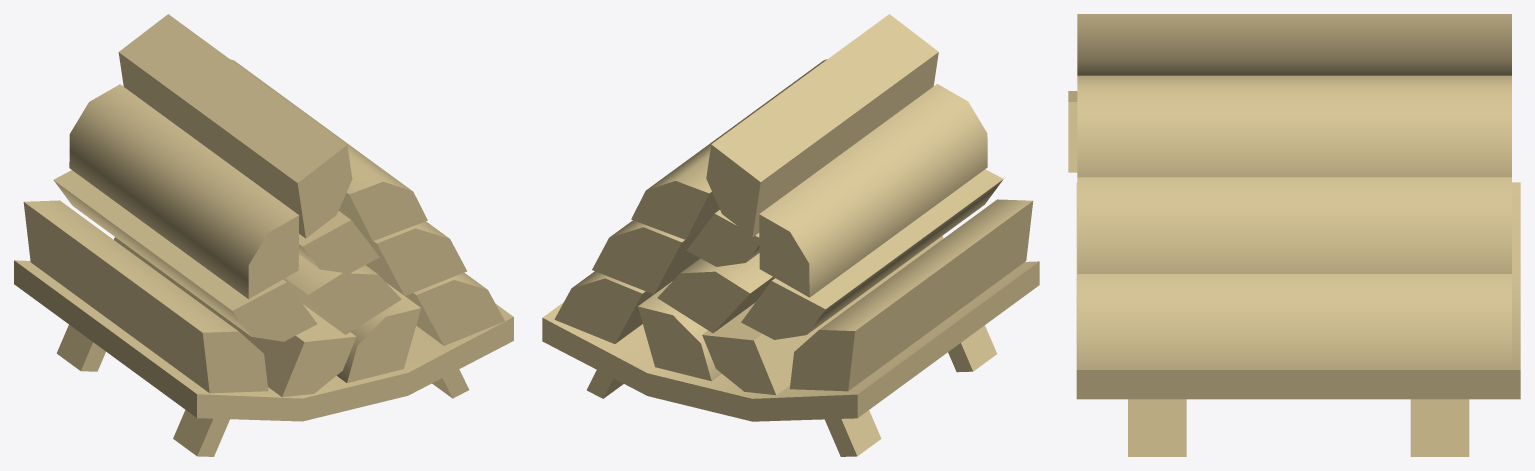
The model's file is drova.fbx.
The picture shows the model from 3 angles, left to right: view 1: azimuth 30°, elevation 25°; view 2: azimuth 150°, elevation 25°; view 3: azimuth 270°, elevation 25°; orthographic projection. The views are drawn at different scales.
Visible parts, largest first — view 1: drova_low_pCylinder1; view 2: drova_low_pCylinder1; view 3: drova_low_pCylinder1.
Part boxes in pixels (bbox=[...]): drova_low_pCylinder1: bbox=[14, 14, 513, 456]; drova_low_pCylinder1: bbox=[542, 14, 1039, 456]; drova_low_pCylinder1: bbox=[1068, 14, 1520, 456].
Bounding box in the file's own units: 40 × 36.16 × 40.74.
